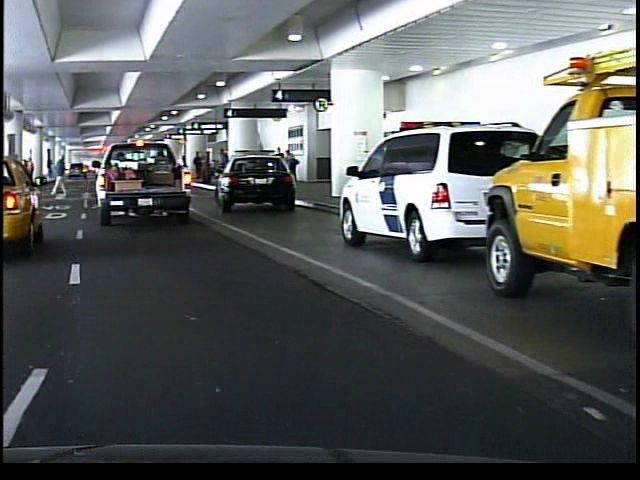person: (50, 151, 67, 199)
